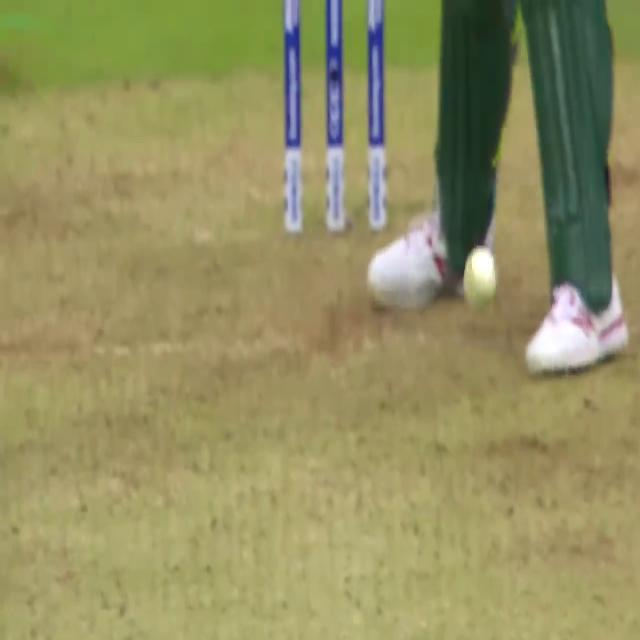ball: (461, 232, 503, 320)
